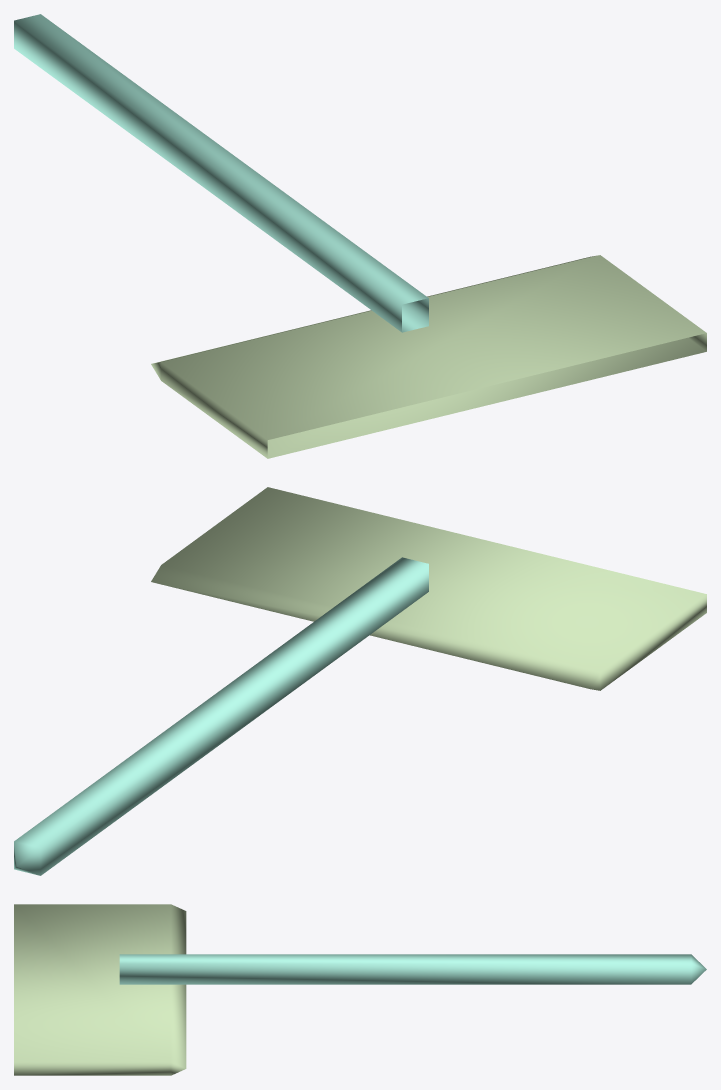
3 renders of one model, top to bottom at view 1: azimuth 30°, elevation 25°; view 2: azimuth 150°, elevation 25°; view 3: azimuth 270°, elevation 25°, orthographic. The views are drawn at different scales.
Parts seen in each view (by area): view 1: Object43; view 2: Object43; view 3: Object43.
Part boxes in pixels (bbox=[...]): Object43: bbox=[14, 14, 706, 458]; Object43: bbox=[14, 487, 706, 875]; Object43: bbox=[14, 904, 706, 1075].
Bounding box in the file's own units: 8821 × 985 × 16370.
